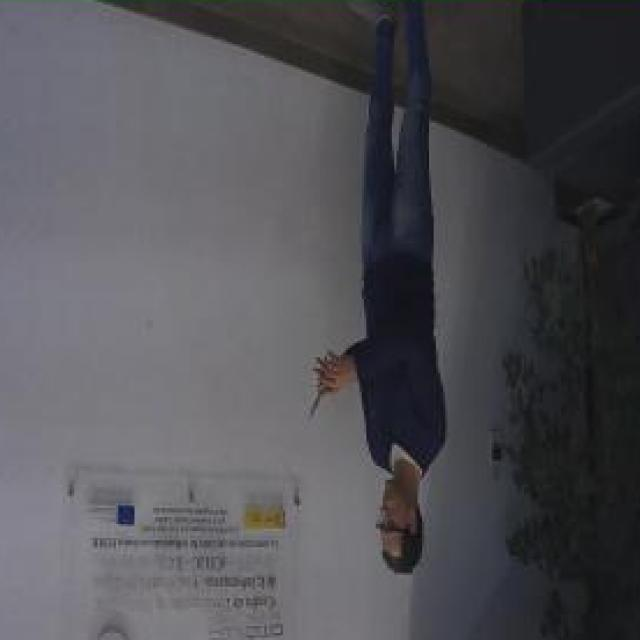knife: (306, 361, 334, 429)
